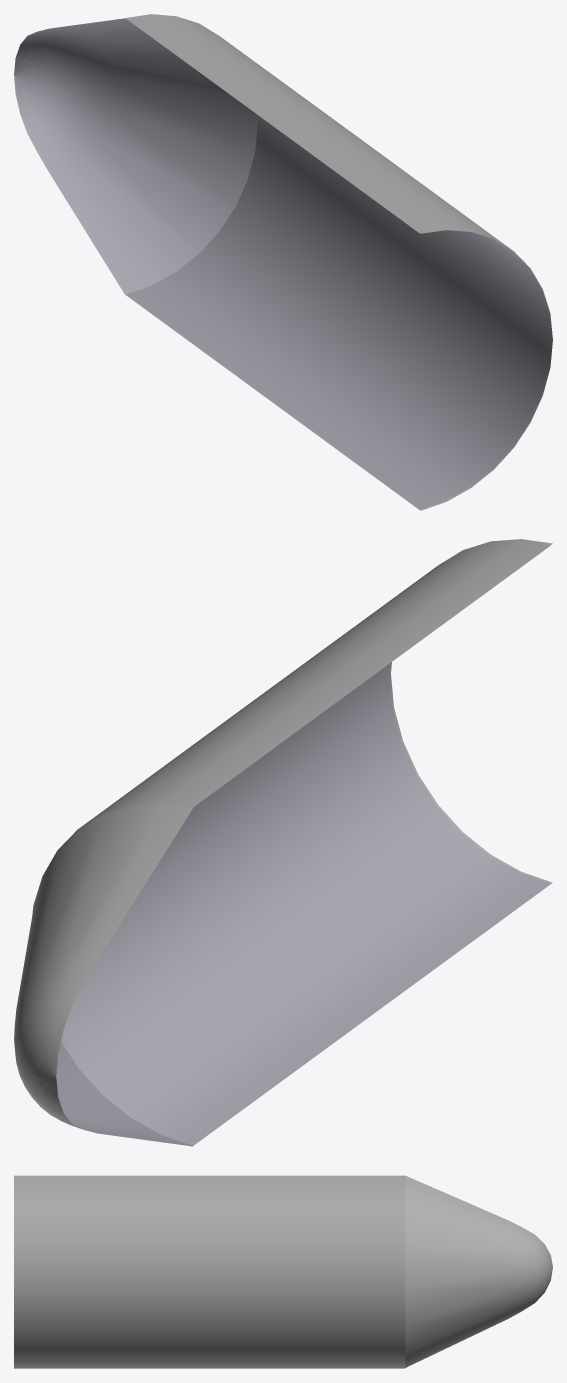
File: fairing201b.obj
3 renders of one model, top to bottom at view 1: azimuth 30°, elevation 25°; view 2: azimuth 150°, elevation 25°; view 3: azimuth 270°, elevation 25°, orthographic. The views are drawn at different scales.
Visible parts, largest first — view 1: group0, group1; view 2: group0, group1; view 3: group1.
Part boxes in pixels (x1,y1,x2,y2): group0: (14, 18, 550, 508); group1: (14, 14, 552, 510); group0: (33, 545, 550, 1145); group1: (14, 539, 552, 1146); group1: (14, 1175, 552, 1368).
Size of the model in its own units: 1.25 by 2.49 by 6.63.
2 materials, 1 textured.
